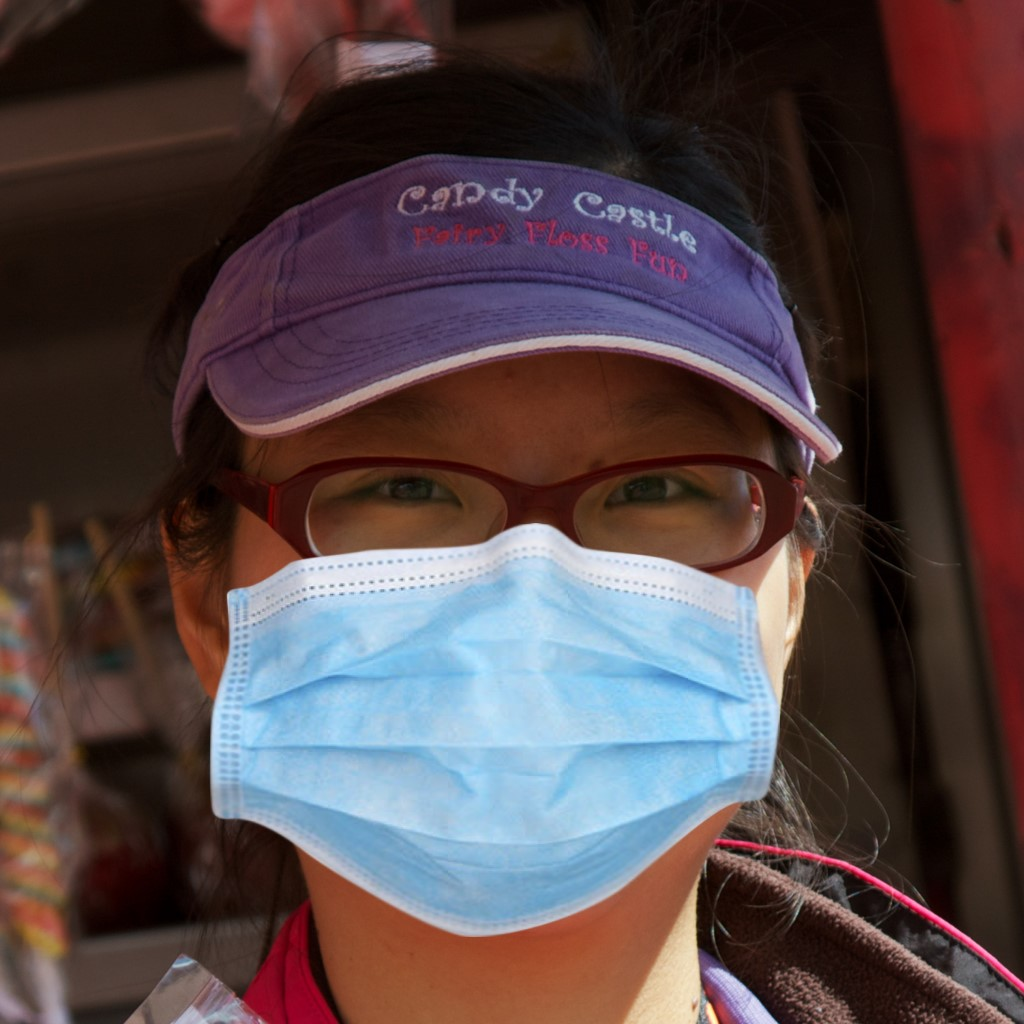con_mascara: (191, 274, 809, 936)
